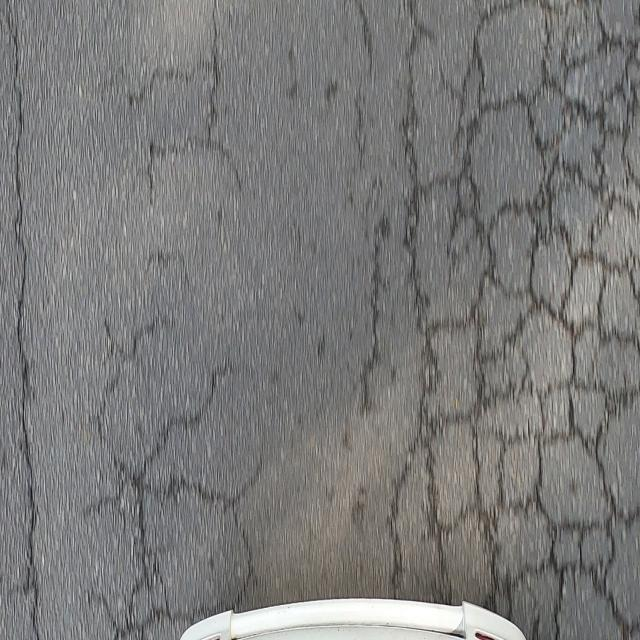Retak-Buaya: (389, 0, 640, 640)
Retak-Memanjang: (4, 30, 42, 640)
